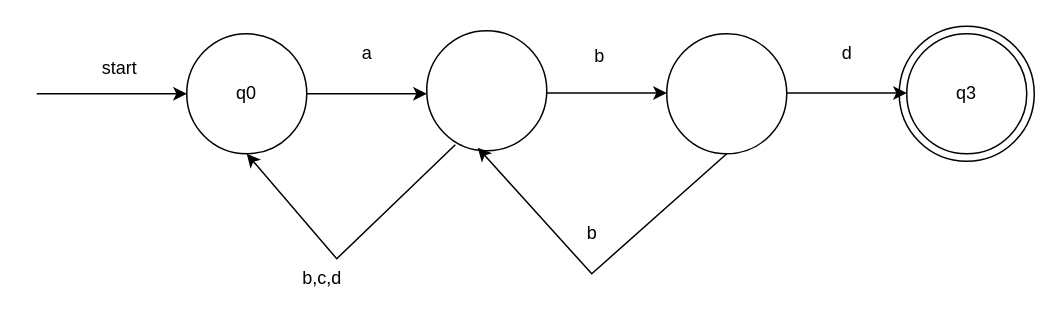
The diagram is 1061 pixels wide and 327 high, and some of its shapes have lost their labels. The shapes that lost their labels are listed below. From the top down, each one's box as (x1, y1, x2, y2) in pixels, then its label:
(425, 29, 547, 151): q1
(665, 32, 787, 154): q2
